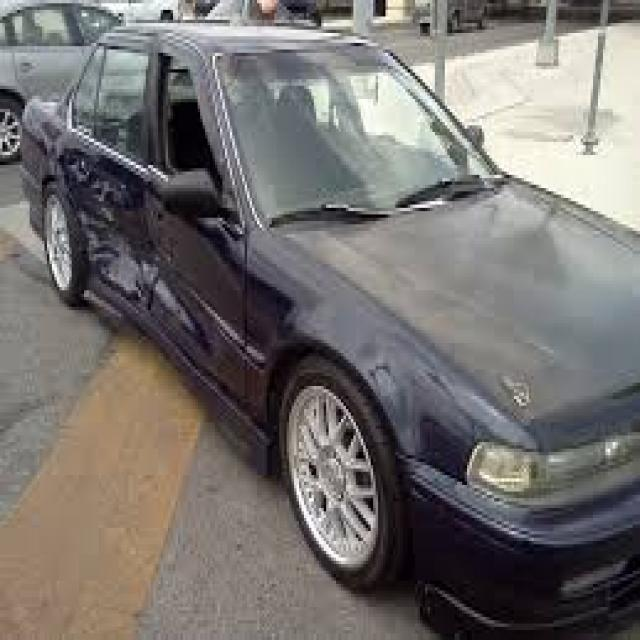minor: (38, 113, 180, 352)
